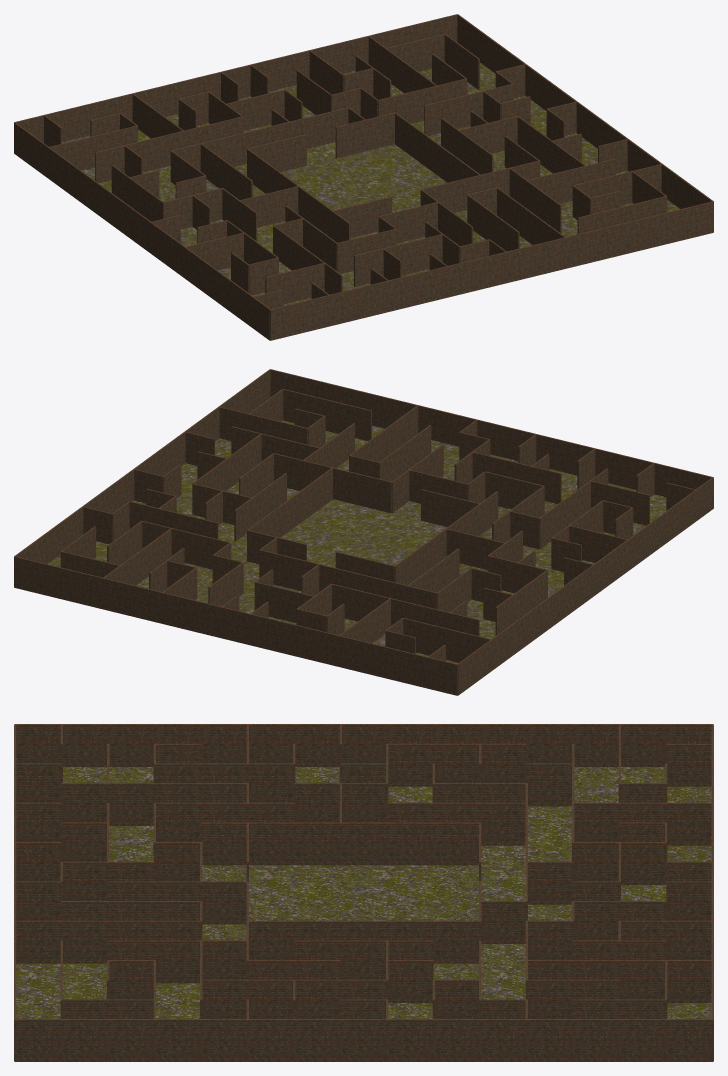
Rendered from Maze3D.obj.
The picture shows the model from 3 angles, top to bottom: view 1: azimuth 30°, elevation 25°; view 2: azimuth 150°, elevation 25°; view 3: azimuth 270°, elevation 25°; orthographic projection. The views are drawn at different scales.
Visible parts, largest first — view 1: Wall_15_Plane.025, Ground_Plane.001, Wall_15.001_Plane.026, Wall_15.003_Plane.028, Wall_15.002_Plane.027, Wall_6_Plane.024, Wall_5.001_Plane.030, Wall_6.001_Plane.029, Wall_5_Plane.023, Wall_3.006_Plane.042, Wall_4_Plane.022, Wall_3.002_Plane.038 (+55 smaller); view 2: Ground_Plane.001, Wall_15.001_Plane.026, Wall_15_Plane.025, Wall_15.003_Plane.028, Wall_15.002_Plane.027, Wall_6_Plane.024, Wall_4_Plane.022, Wall_5.001_Plane.030, Wall_6.001_Plane.029, Wall_5_Plane.023, Wall_3.005_Plane.041, Wall_3_Plane.021 (+54 smaller); view 3: Ground_Plane.001, Wall_15.002_Plane.027, Wall_15.003_Plane.028, Wall_6.001_Plane.029, Wall_5_Plane.023, Wall_4.003_Plane.034, Wall_4.001_Plane.032, Wall_4.002_Plane.033, Wall_3.014_Plane.050, Wall_4.004_Plane.035, Wall_3.015_Plane.051, Wall_3.009_Plane.045 (+42 smaller).
Part boxes in pixels (left/top/right/bottom): Wall_15_Plane.025: left=270, top=201, right=713, bottom=340; Ground_Plane.001: left=62, top=63, right=679, bottom=305; Wall_15.001_Plane.026: left=14, top=14, right=457, bottom=142; Wall_15.003_Plane.028: left=14, top=122, right=270, bottom=340; Wall_15.002_Plane.027: left=457, top=14, right=713, bottom=231; Wall_6_Plane.024: left=171, top=107, right=348, bottom=170; Wall_5.001_Plane.030: left=95, top=116, right=243, bottom=182; Wall_6.001_Plane.029: left=247, top=148, right=350, bottom=242; Wall_5_Plane.023: left=395, top=112, right=480, bottom=182; Wall_3.006_Plane.042: left=354, top=234, right=442, bottom=286; Wall_4_Plane.022: left=421, top=161, right=539, bottom=212; Wall_3.002_Plane.038: left=424, top=84, right=513, bottom=135; Ground_Plane.001: left=48, top=420, right=666, bottom=663; Wall_15.001_Plane.026: left=14, top=556, right=457, bottom=695; Wall_15_Plane.025: left=270, top=369, right=713, bottom=496; Wall_15.003_Plane.028: left=457, top=477, right=713, bottom=695; Wall_15.002_Plane.027: left=14, top=369, right=270, bottom=586; Wall_6_Plane.024: left=259, top=549, right=437, bottom=609; Wall_4_Plane.022: left=274, top=453, right=391, bottom=513; Wall_5.001_Plane.030: left=331, top=583, right=479, bottom=636; Wall_6.001_Plane.029: left=395, top=491, right=498, bottom=585; Wall_5_Plane.023: left=247, top=468, right=332, bottom=537; Wall_3.005_Plane.041: left=283, top=389, right=371, bottom=440; Wall_3_Plane.021: left=403, top=618, right=491, bottom=662; Ground_Plane.001: left=16, top=767, right=711, bottom=1018; Wall_15.002_Plane.027: left=15, top=1019, right=712, bottom=1061; Wall_15.003_Plane.028: left=15, top=724, right=712, bottom=766; Wall_6.001_Plane.029: left=201, top=822, right=480, bottom=865; Wall_5_Plane.023: left=249, top=920, right=480, bottom=963; Wall_4.003_Plane.034: left=201, top=979, right=387, bottom=1018; Wall_4.001_Plane.032: left=15, top=920, right=201, bottom=963; Wall_4.002_Plane.033: left=61, top=783, right=247, bottom=825; Wall_3.014_Plane.050: left=387, top=743, right=526, bottom=786; Wall_4.004_Plane.035: left=528, top=960, right=712, bottom=1002; Wall_3.015_Plane.051: left=573, top=802, right=712, bottom=845; Wall_3.009_Plane.045: left=108, top=940, right=246, bottom=983.
Size of the model in its own units: 151 by 10 by 151.
2 materials, 2 textured.
